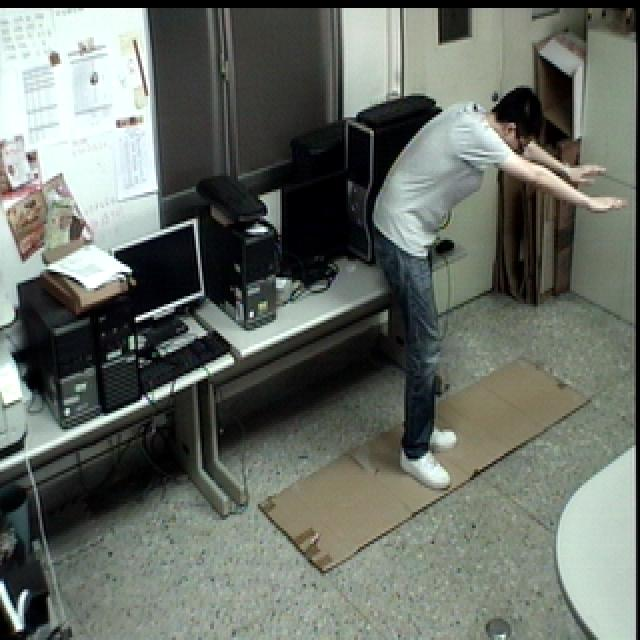bend: (363, 82, 626, 500)
